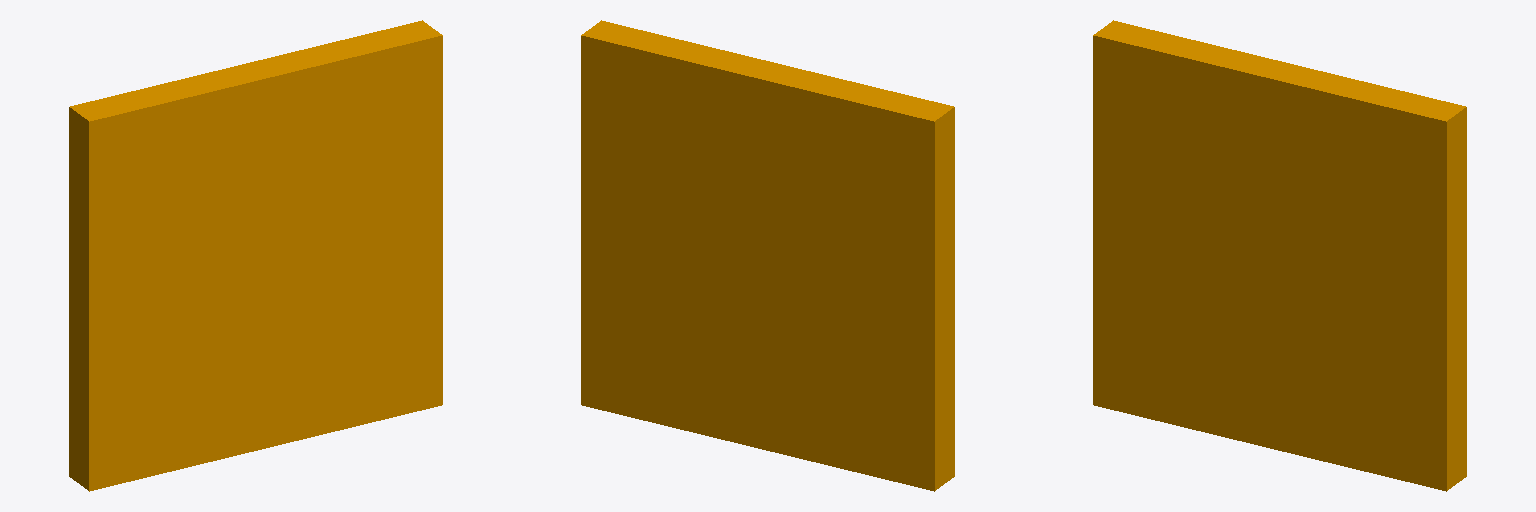
robot.urdf — box.urdf:
<?xml version="0.0" ?>
<robot name="box.urdf">
  <link name="baseLink">
    <contact>
      <lateral_friction value="1.0"/>
      <rolling_friction value="0.0001"/>
      <inertia_scaling value="3.0"/>
    </contact>
    <inertial>
      <origin rpy="0 0 0" xyz="0 0 0"/>
       <mass value="0.0"/>
       <inertia ixx="1" ixy="0" ixz="0" iyy="1" iyz="0" izz="1"/>
    </inertial>
    <visual>
      <origin rpy="0 0 0" xyz="0 0 0"/>
      <geometry>
         <mesh filename="wall.obj" scale="1 1 1"/>
      </geometry>
    </visual>
    <collision>
      <origin rpy="0 0 0" xyz="0 0 -5"/>
      <geometry>
         <mesh filename="wall.obj" scale="1 1 1"/>
      </geometry>
    </collision>
  </link>
</robot>

--- Render facts (derived) ---
3 views of the same robot in one strip: view 1: azimuth 30°, elevation 25°; view 2: azimuth 150°, elevation 25°; view 3: azimuth 330°, elevation 25° (orthographic).
Robot: box.urdf — 1 links, 0 joints (none); root link baseLink; default pose: every joint at zero.
Visible links, largest first — view 1: baseLink; view 2: baseLink; view 3: baseLink.
Link boxes in pixels (x1,y1,x2,y2): baseLink: (69,20,442,491); baseLink: (581,20,954,491); baseLink: (1093,20,1466,491).
Size in the robot's own frame: 2 by 0.2 by 2 metres.
1 mesh visuals loaded from 1 distinct referenced files (1 OBJ).